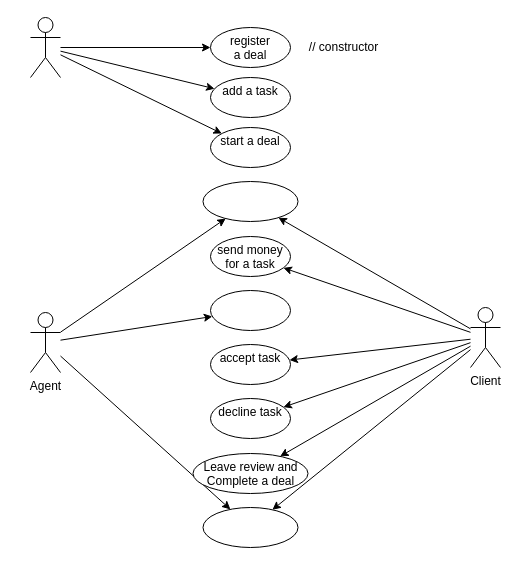
Some shapes in this 518 by 565 pixel diagram are drawn without their labels. Here are the shapes that lost their labels. From the top down, the centre of each, then its label:
At (45,47): "Authorized consultant".
At (250,201): "send protection money".
At (250,310): "Send a task for revision".
At (250,527): "Cancel a deal".
